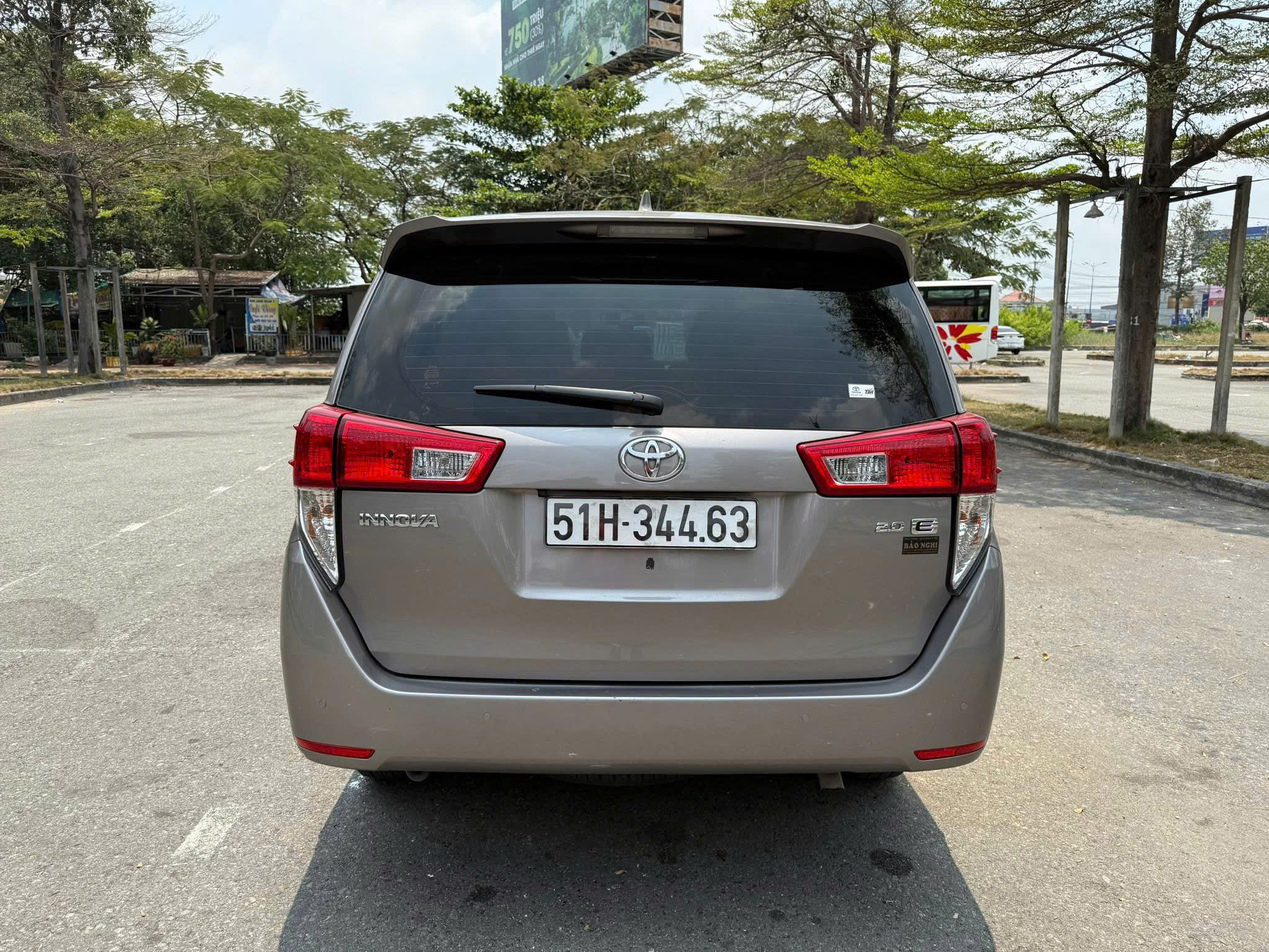Bien-so: (543, 490, 763, 546)
